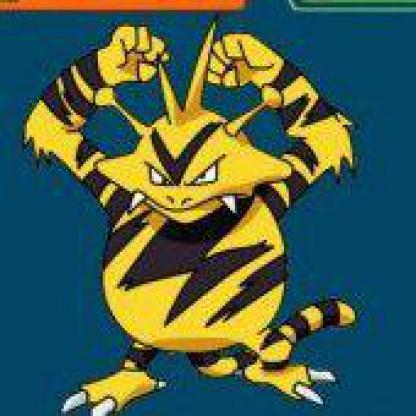Electabuzz: (1, 1, 415, 415)
